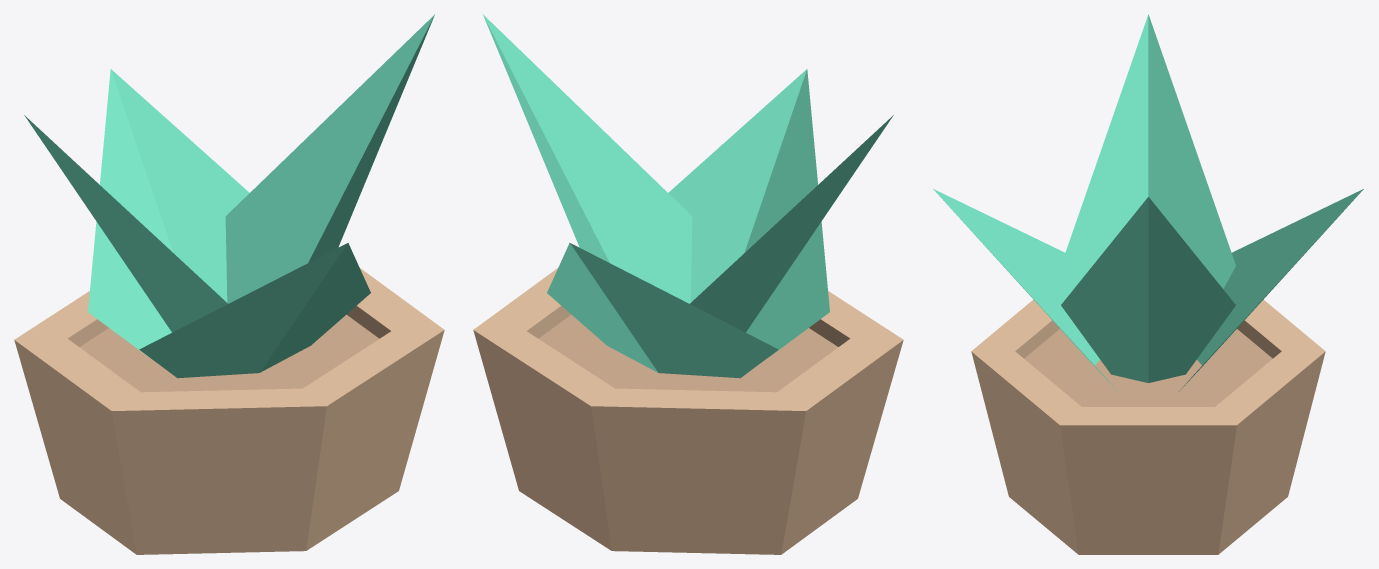
The model's file is kn-potted-plant.glb.
3 renders of one model, left to right at view 1: azimuth 30°, elevation 25°; view 2: azimuth 150°, elevation 25°; view 3: azimuth 270°, elevation 25°, orthographic. The views are drawn at different scales.
Parts seen in each view (by area): view 1: pottedPlant(Clone), plant; view 2: pottedPlant(Clone), plant; view 3: pottedPlant(Clone), plant.
Part boxes in pixels (x1,y1,x2,y2): pottedPlant(Clone): (14,268,444,554); plant: (24,14,434,378); pottedPlant(Clone): (473,268,903,554); plant: (483,14,893,378); pottedPlant(Clone): (971,299,1325,554); plant: (933,14,1363,391).
Size of the model in its own units: 1 by 1 by 1.
